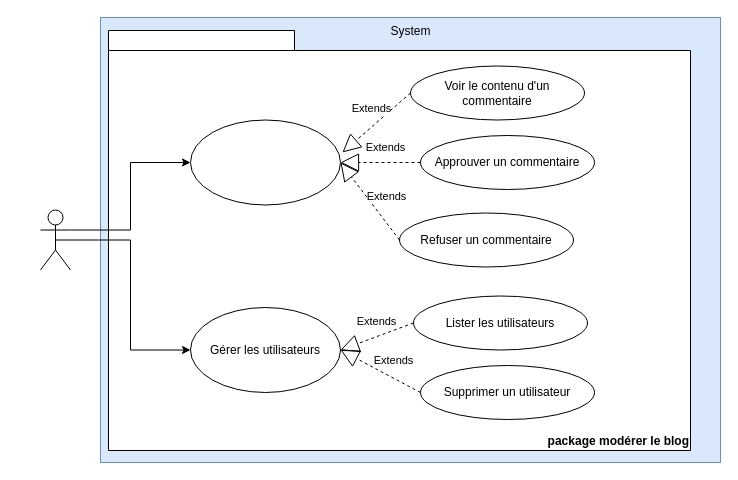
Some shapes in this 738 by 480 pixel diagram are drawn without their labels. Each missing label, with the centre of its shape:
Administrateur: the point at 55,239
Gérer les commentaires: the point at 265,162
